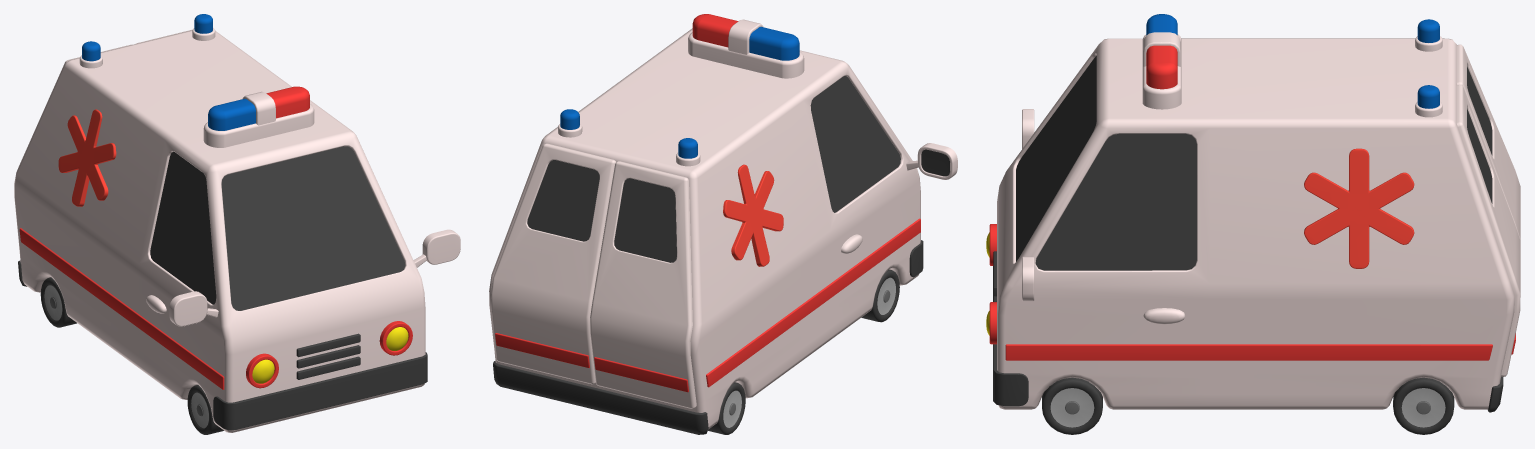
File: Public_3_Ambulanse_1.glb
3 views of the same model, side by side, from view 1: azimuth 30°, elevation 25°; view 2: azimuth 150°, elevation 25°; view 3: azimuth 270°, elevation 25° (orthographic). The views are drawn at different scales.
Parts seen in each view (by area): view 1: Public_3_Ambulanse_1; view 2: Public_3_Ambulanse_1; view 3: Public_3_Ambulanse_1.
Part boxes in pixels (x1,y1,x2,y2): Public_3_Ambulanse_1: (14, 14, 460, 434); Public_3_Ambulanse_1: (489, 14, 957, 434); Public_3_Ambulanse_1: (986, 14, 1520, 434).
Size of the model in its own units: 3.68 by 3.5 by 4.96.
Materials: 1 (1 with a texture image).
